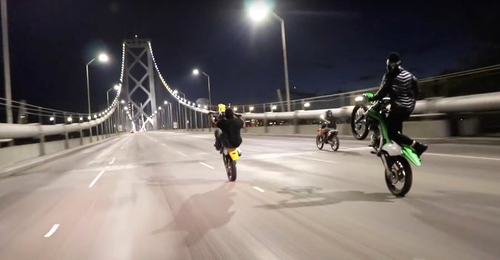bikerider: (300, 104, 346, 160)
